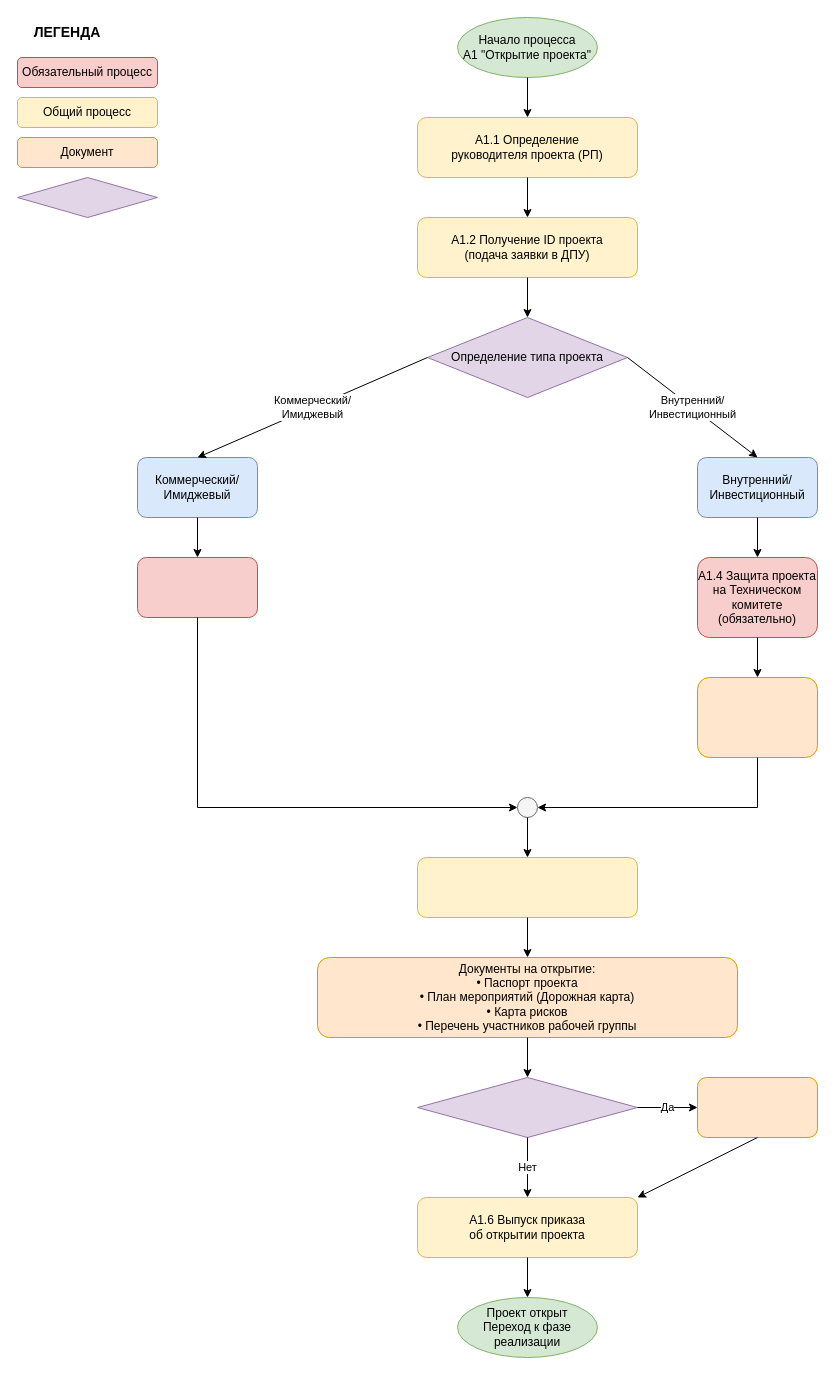
Some shapes in this 835 by 1375 pixel diagram are drawn without their labels. Here are the shapes that lost their labels. From the top down, the box of each, then its label:
(16, 176, 158, 218): Решение
(136, 556, 258, 618): А1.3 Заключение договора (обязательно)
(696, 676, 818, 758): Протокол Технического комитета с результатами защиты проекта
(416, 856, 638, 918): А1.5 Утверждение документов на открытие проекта
(416, 1076, 638, 1138): Формирование НМА?
(696, 1076, 818, 1138): Приложение к приказу об открытии о создании НМА
